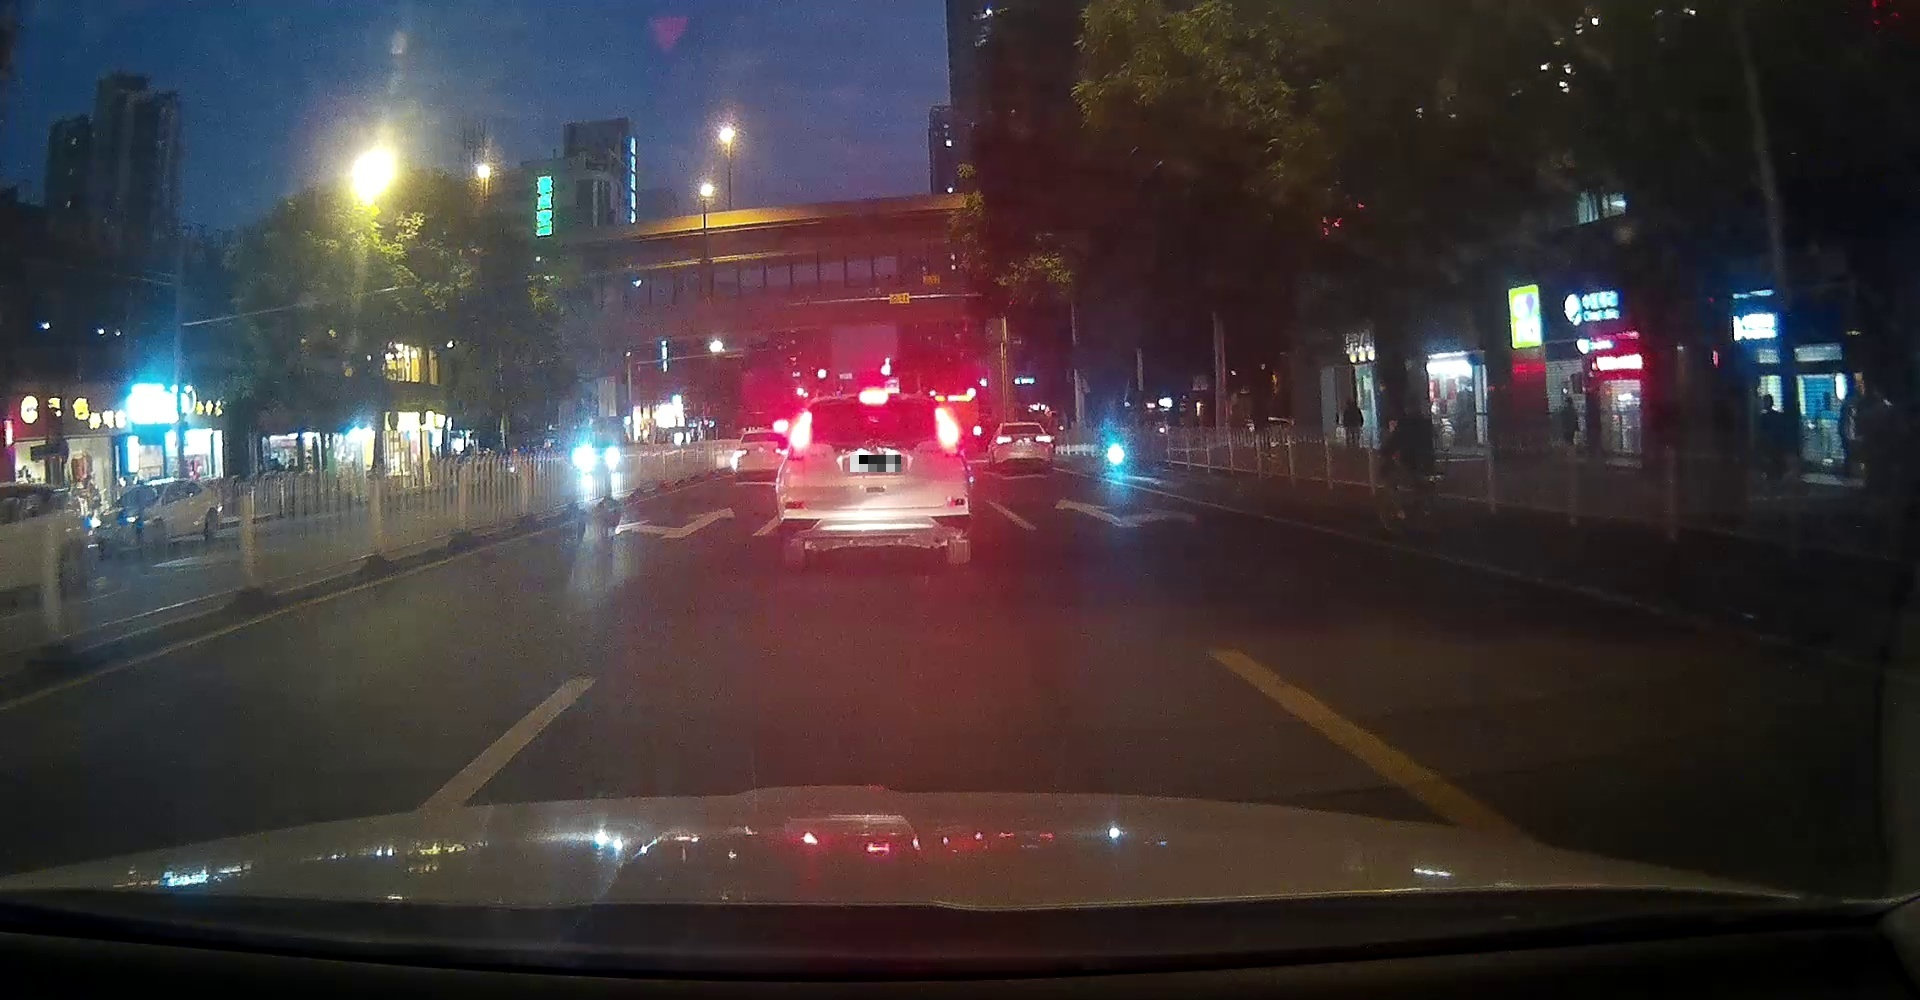L_light: (789, 409, 814, 454), (996, 435, 1013, 444)
R_light: (935, 406, 961, 451), (1035, 435, 1051, 443)
T_light: (858, 390, 889, 405), (1017, 423, 1026, 426)
night-brake: (780, 388, 966, 563)
night-no: (996, 421, 1053, 471)
plate_1: (850, 456, 902, 472)
